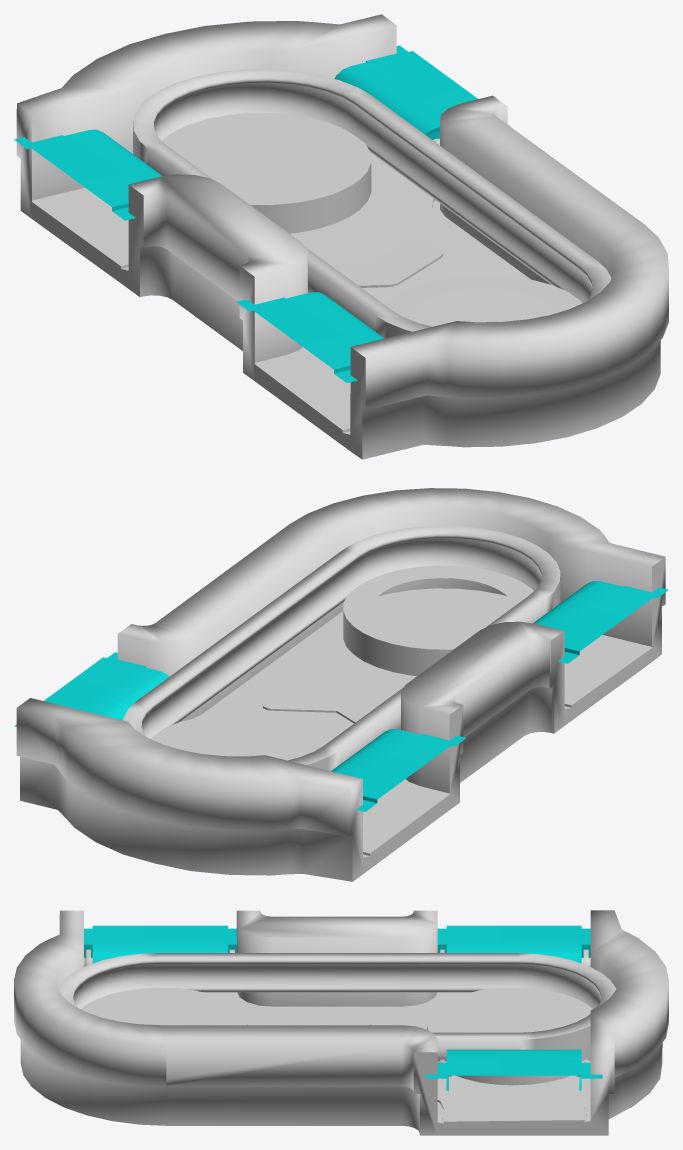
The model's file is CutterDefaultInternalVariant.gltf.
3 views of the same model, one above another, from view 1: azimuth 30°, elevation 25°; view 2: azimuth 150°, elevation 25°; view 3: azimuth 270°, elevation 25° (orthographic). The views are drawn at different scales.
Parts seen in each view (by area): view 1: Cutter_Default_Main_LOD0, Cutter_Default_Ribbon_LOD0, Cutter_Default_TransportBlue_LOD0; view 2: Cutter_Default_Main_LOD0, Cutter_Default_Ribbon_LOD0; view 3: Cutter_Default_Main_LOD0, Cutter_Default_Ribbon_LOD0, Cutter_Default_TransportBlue_LOD0.
Boxes of the visible parts, bbox=[...] form: Cutter_Default_Main_LOD0: bbox=[14, 14, 668, 459]; Cutter_Default_Ribbon_LOD0: bbox=[133, 69, 611, 338]; Cutter_Default_TransportBlue_LOD0: bbox=[186, 131, 299, 191]; Cutter_Default_Main_LOD0: bbox=[14, 488, 668, 881]; Cutter_Default_Ribbon_LOD0: bbox=[123, 525, 560, 770]; Cutter_Default_Main_LOD0: bbox=[14, 910, 668, 1135]; Cutter_Default_Ribbon_LOD0: bbox=[58, 953, 616, 1060]; Cutter_Default_TransportBlue_LOD0: bbox=[453, 999, 573, 1024].
Size of the model in its own units: 1 by 0.26 by 1.85.
